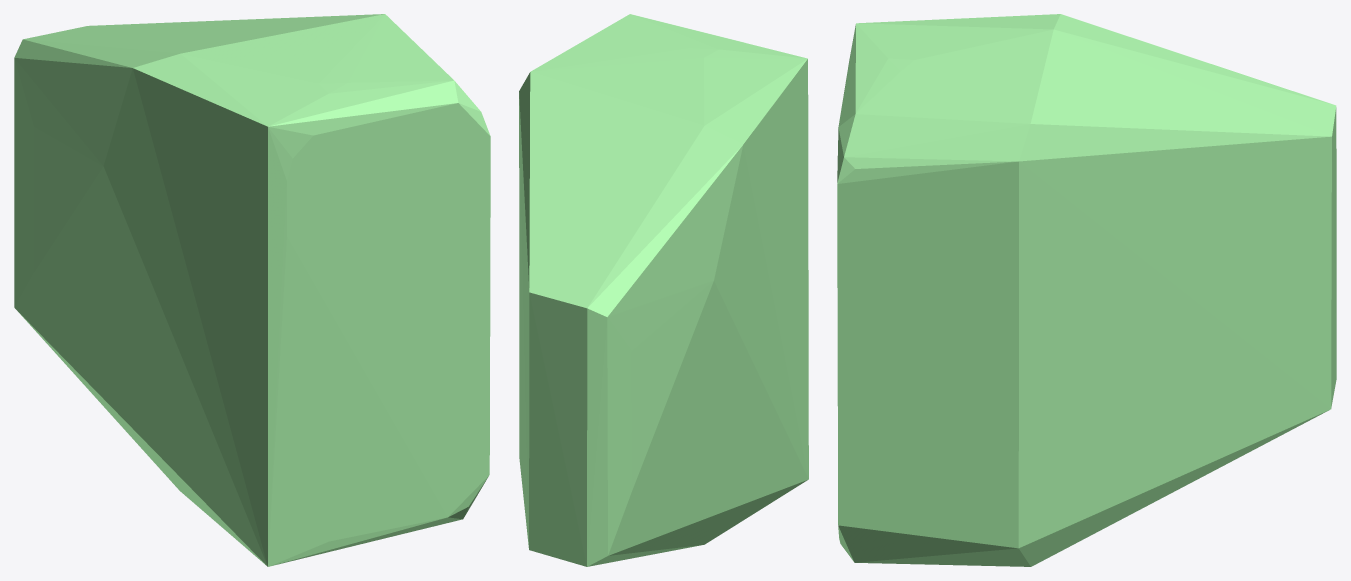
The model's file is palle_scrotali_buone_L2_respondable_PSM1_coll_2.dae.
The picture shows the model from 3 angles, left to right: view 1: azimuth 30°, elevation 25°; view 2: azimuth 150°, elevation 25°; view 3: azimuth 270°, elevation 25°; orthographic projection. The views are drawn at different scales.
Visible parts, largest first — view 1: Node_000002334E243BC0; view 2: Node_000002334E243BC0; view 3: Node_000002334E243BC0.
Boxes of the visible parts, x1,y1,x2,y2 form: Node_000002334E243BC0: (14, 14, 490, 566); Node_000002334E243BC0: (519, 14, 808, 566); Node_000002334E243BC0: (837, 14, 1336, 566).
Bounding box in the file's own units: 0.0491 × 0.082 × 0.0826.
